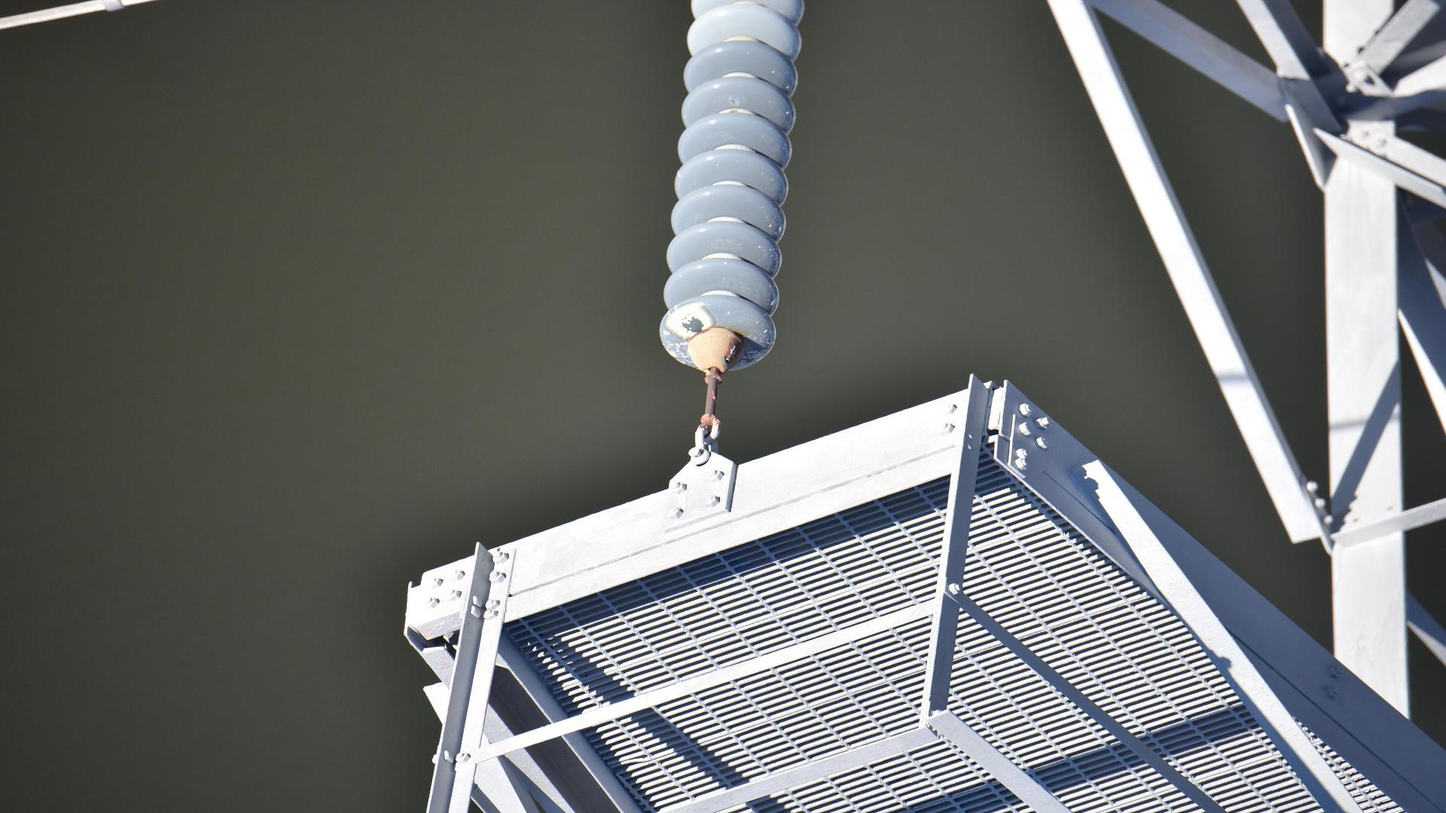insulator: (651, 1, 813, 379)
insulator_flashover: (663, 298, 718, 342)
